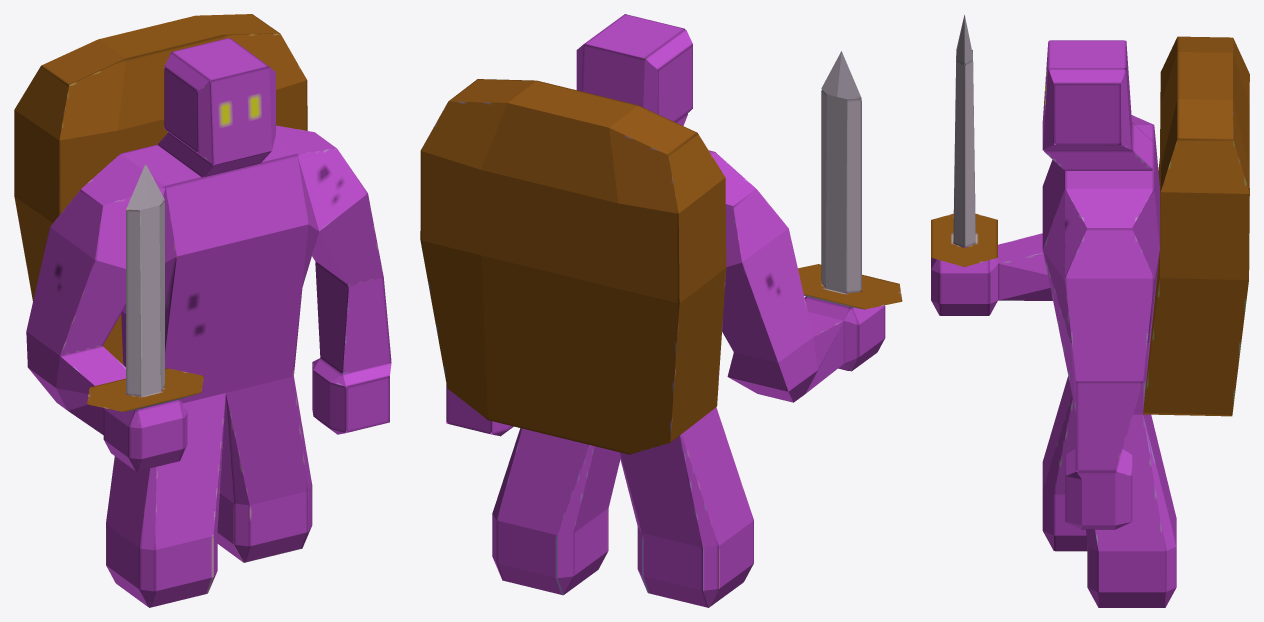
Rendered from gloop.obj.
3 renders of one model, left to right at view 1: azimuth 30°, elevation 25°; view 2: azimuth 150°, elevation 25°; view 3: azimuth 270°, elevation 25°, orthographic. The views are drawn at different scales.
Visible parts, largest first — view 1: beveled_cuboid; view 2: beveled_cuboid; view 3: beveled_cuboid.
Boxes of the visible parts, x1,y1,x2,y2 form: beveled_cuboid: (14, 14, 391, 607); beveled_cuboid: (420, 14, 902, 607); beveled_cuboid: (931, 15, 1249, 607).
Bounding box in the file's own units: 0.8594 × 1.17 × 0.6625.
1 material, 1 textured.
